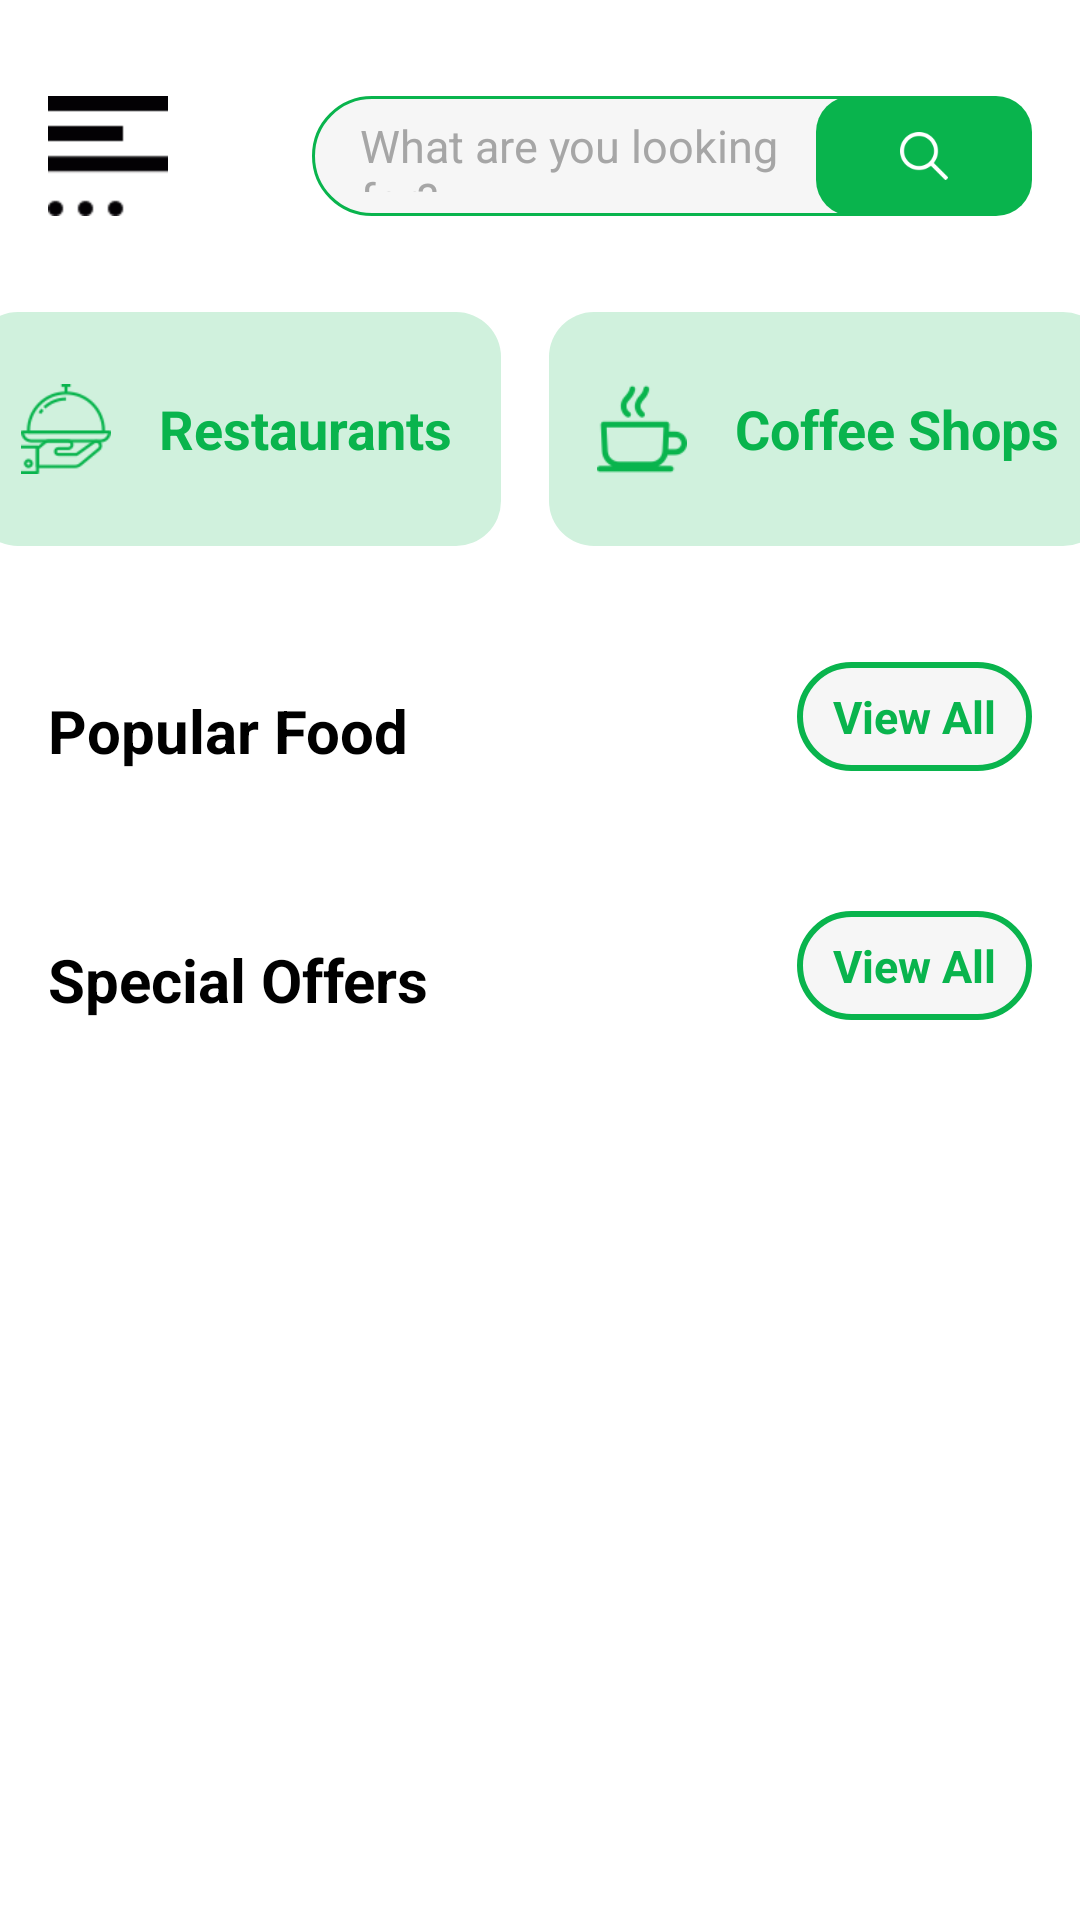

Where to tap for icons on this 1080x1920 app screen, as point (x, y):
moreoptions: point (108, 156)
search: point (924, 156)
